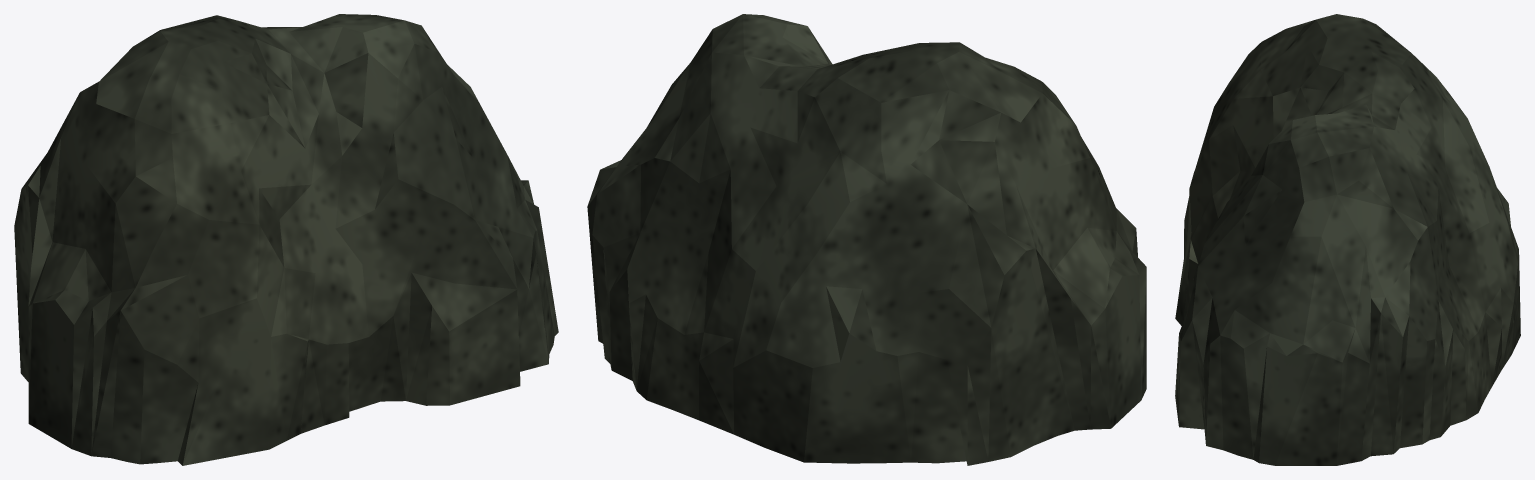
The model's file is CRERock05.glb.
3 renders of one model, left to right at view 1: azimuth 30°, elevation 25°; view 2: azimuth 150°, elevation 25°; view 3: azimuth 270°, elevation 25°, orthographic. The views are drawn at different scales.
Visible parts, largest first — view 1: CRERock05_rock; view 2: CRERock05_rock; view 3: CRERock05_rock.
Boxes of the visible parts, x1,y1,x2,y2 form: CRERock05_rock: (14,14,558,465); CRERock05_rock: (587,14,1146,465); CRERock05_rock: (1175,14,1520,465).
Bounding box in the file's own units: 3.72 × 2.45 × 2.55.
1 material, 1 textured.
